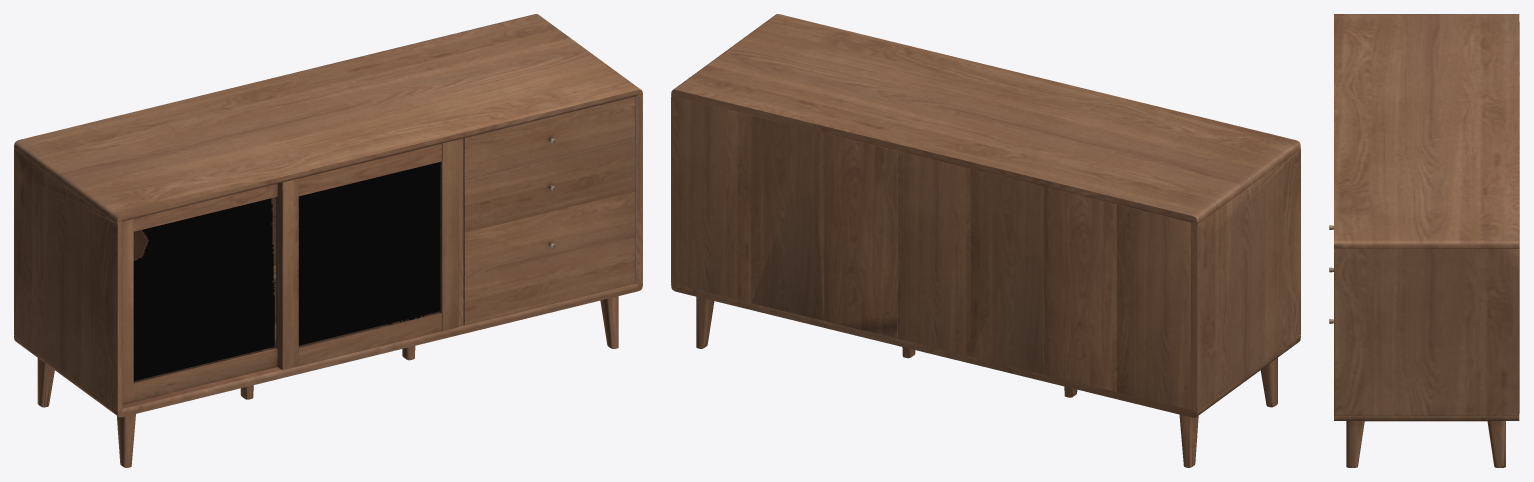
The model's file is Sideboard_Side_Cabinet_Console_7468350f-4184-5ca1-b39b-6a88fe510827.glb.
3 renders of one model, left to right at view 1: azimuth 30°, elevation 25°; view 2: azimuth 150°, elevation 25°; view 3: azimuth 270°, elevation 25°, orthographic. The views are drawn at different scales.
Parts seen in each view (by area): view 1: raw_model.obj; view 2: raw_model.obj; view 3: raw_model.obj.
Part boxes in pixels (x1,y1,x2,y2): raw_model.obj: (14, 14, 642, 467); raw_model.obj: (671, 14, 1300, 467); raw_model.obj: (1329, 14, 1519, 467).
Size of the model in its own units: 1.71 by 0.8106 by 0.6003.
1 material, 1 textured.
